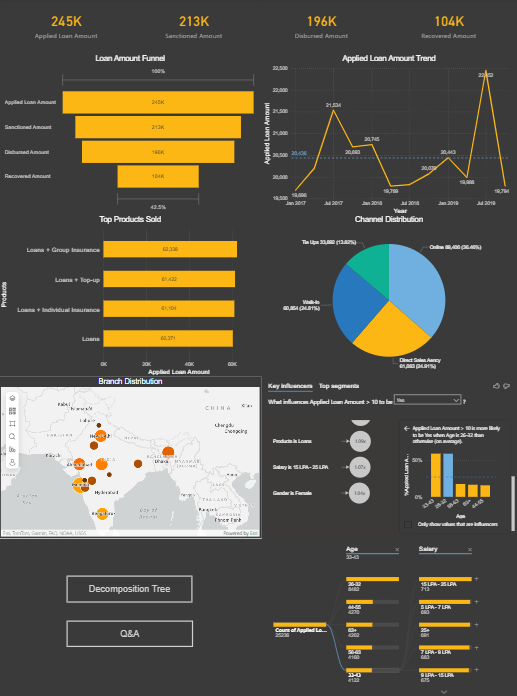

The dashboard page shown, as its layout file describes it:
{"tool":"powerbi","page":{"name":"Page 1","canvas":[1280,2000],"ordinal":0},"visuals":[{"type":"advanceCardE03760C5AB684758B56AA29F9E6C257B","fields":{"mainMeasure":["Customer.Applied Loan Amount"]},"box":[10,0,315,140],"z":0},{"type":"advanceCardE03760C5AB684758B56AA29F9E6C257B","fields":{"mainMeasure":["Sanction Data.Sanctioned Amount"]},"box":[325.1,0,315.4,139.6],"z":1000},{"type":"advanceCardE03760C5AB684758B56AA29F9E6C257B","fields":{"mainMeasure":["Sanction Data.Disbursed Amount"]},"box":[640.5,0,315,140],"z":2000},{"type":"advanceCardE03760C5AB684758B56AA29F9E6C257B","fields":{"mainMeasure":["Recovery Data.Recovered Amount"]},"box":[955.5,0,315,140],"z":3000},{"type":"funnel","title":"Loan Amount Funnel","fields":{"Y":["Customer.Applied Loan Amount","Sanction Data.Sanctioned Amount","Sanction Data.Disbursed Amount","Recovery Data.Recovered Amount"]},"box":[9.4,139.6,630.7,400],"z":4000},{"type":"lineChart","title":"Applied Loan Amount Trend","fields":{"Category":["Dates.Month Yr.Variation.Date Hierarchy.Year","Dates.Month Yr.Variation.Date Hierarchy.Quarter","Dates.Month Yr.Variation.Date Hierarchy.Month"],"Y":["Customer.Applied Loan Amount"]},"box":[649.6,139.6,630.7,400.1],"z":5000},{"type":"barChart","title":"Top Products Sold","fields":{"Y":["Customer.Applied Loan Amount"],"Category":["Product.Products"]},"box":[0,538.6,649.2,399.4],"z":6000},{"type":"pieChart","title":"Channel Distribution","fields":{"Y":["Customer.Applied Loan Amount"],"Category":["Channel.Channels"]},"box":[649.2,538.6,631,399.4],"z":7000},{"type":"esriVisual","title":"Branch Distribution","fields":{"Size":["Customer.Applied Loan Amount"],"Latitude":["Branch.Branch Latitute"],"Longitude":["Branch.Branch Longitude"],"Color":["Sum(Customer.Applied Loan Amount in Lacs)"]},"box":[0,938.1,649.2,399.4],"z":8000},{"type":"keyDriversVisual","title":"Branch Distribution","fields":{"Target":["Customer.Applied Loan Amount > 10"],"ExplainBy":["Customer.Age","Customer.Occupation","Customer.Salary","Customer.Gender","Branch.Branch Name","Channel.Channels","Product.Products"]},"box":[649.2,938.1,631,399.4],"z":9000},{"type":"decompositionTreeVisual","title":"Branch Distribution","fields":{"ExplainBy":["Customer.Age","Customer.Salary","Customer.Gender","Branch.Branch Name","Channel.Channels","Product.Products","Customer.Occupation"],"Analyze":["CountNonNull(Customer.Applied Loan Amount > 10)"]},"box":[648.5,1337.5,631.8,399.3],"z":10000},{"type":"actionButton","title":"De","box":[167,1427.4,311.7,67.1],"z":12000},{"type":"actionButton","title":"De","box":[165.6,1539.2,313.2,65.6],"z":13000}]}

Visuals, with their boxes on the page's 1280x2000 design canvas (x1, y1, x2, y2). These are canvas units, not pixel positions in the 517x696 screenshot, which may show the page scaled, cropped or inside an application window:
advanceCardE03760C5AB684758B56AA29F9E6C257B - Customer.Applied Loan Amount: region(10, 0, 325, 140)
advanceCardE03760C5AB684758B56AA29F9E6C257B - Sanction Data.Sanctioned Amount: region(325, 0, 640, 140)
advanceCardE03760C5AB684758B56AA29F9E6C257B - Sanction Data.Disbursed Amount: region(640, 0, 956, 140)
advanceCardE03760C5AB684758B56AA29F9E6C257B - Recovery Data.Recovered Amount: region(956, 0, 1270, 140)
"Loan Amount Funnel" funnel: region(9, 140, 640, 540)
"Applied Loan Amount Trend" lineChart: region(650, 140, 1280, 540)
"Top Products Sold" barChart: region(0, 539, 649, 938)
"Channel Distribution" pieChart: region(649, 539, 1280, 938)
"Branch Distribution" esriVisual: region(0, 938, 649, 1338)
"Branch Distribution" keyDriversVisual: region(649, 938, 1280, 1338)
"Branch Distribution" decompositionTreeVisual: region(648, 1338, 1280, 1737)
"De" actionButton: region(167, 1427, 479, 1494)
"De" actionButton: region(166, 1539, 479, 1605)
